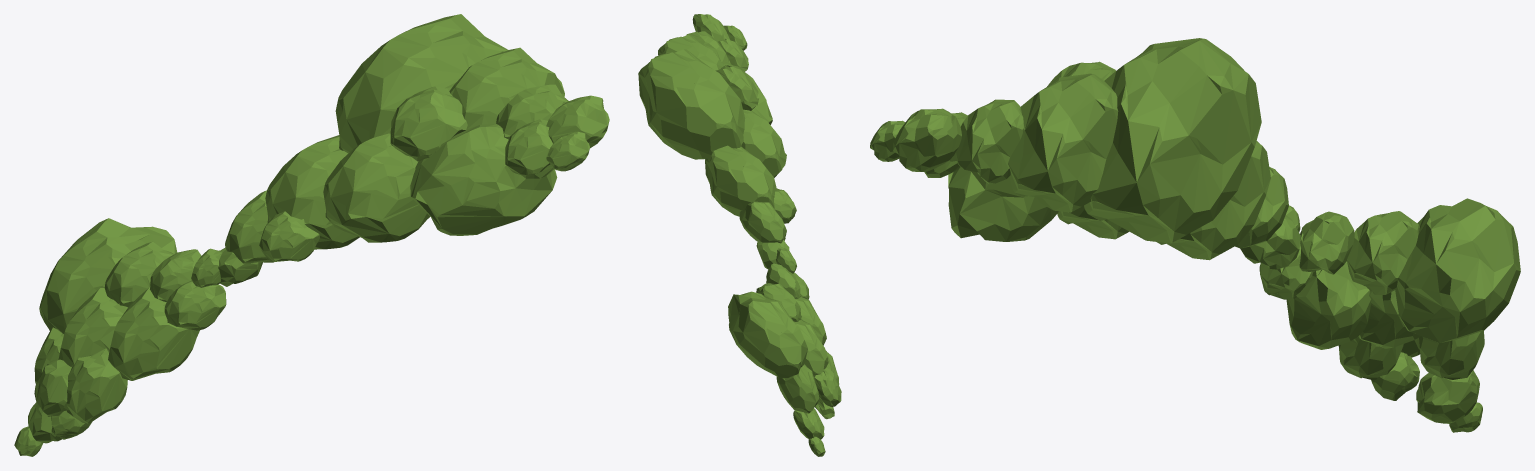
The model's file is moss1.fbx.
3 views of the same model, side by side, from view 1: azimuth 30°, elevation 25°; view 2: azimuth 150°, elevation 25°; view 3: azimuth 270°, elevation 25° (orthographic). The views are drawn at different scales.
Parts seen in each view (by area): view 1: Moss_G5, Group63459.175, Group63459.174, Group63459.182, Group63459.189, Group63459.173, Group63459.172, Group63459.177, Group63459.192, Group63459.190, Group63459.183, Group63459.188 (+13 smaller); view 2: Moss_G5, Group63459.182, Group63459.173, Group63459.174, Group63459.178, Group63459.191, Group63459.172, Group63459.177, Group63459.190, Group63459.183, Group63459.193, Group63459.184 (+12 smaller); view 3: Moss_G5, Group63459.182, Group63459.172, Group63459.175, Group63459.189, Group63459.183, Group63459.173, Group63459.176, Group63459.180, Group63459.184, Group63459.194, Group63459.191 (+9 smaller).
Part boxes in pixels (bbox=[...]): Moss_G5: bbox=[335, 14, 508, 153]; Group63459.175: bbox=[410, 123, 557, 235]; Group63459.174: bbox=[323, 133, 430, 242]; Group63459.182: bbox=[39, 218, 177, 333]; Group63459.189: bbox=[108, 287, 199, 380]; Group63459.173: bbox=[265, 135, 359, 249]; Group63459.172: bbox=[449, 47, 564, 129]; Group63459.177: bbox=[390, 86, 467, 161]; Group63459.192: bbox=[66, 348, 127, 423]; Group63459.190: bbox=[58, 288, 127, 367]; Group63459.183: bbox=[104, 241, 174, 307]; Group63459.188: bbox=[164, 280, 226, 330]; Moss_G5: bbox=[638, 49, 745, 159]; Group63459.182: bbox=[728, 291, 807, 378]; Group63459.173: bbox=[705, 145, 776, 216]; Group63459.174: bbox=[741, 109, 786, 177]; Group63459.178: bbox=[739, 201, 786, 243]; Group63459.191: bbox=[776, 364, 818, 413]; Group63459.172: bbox=[658, 34, 724, 83]; Group63459.177: bbox=[715, 65, 758, 110]; Group63459.190: bbox=[794, 319, 828, 375]; Group63459.183: bbox=[756, 283, 801, 321]; Group63459.193: bbox=[813, 368, 841, 406]; Group63459.184: bbox=[766, 263, 800, 298]; Moss_G5: bbox=[1084, 38, 1261, 243]; Group63459.182: bbox=[1395, 198, 1520, 342]; Group63459.172: bbox=[1008, 73, 1118, 212]; Group63459.175: bbox=[948, 167, 1058, 241]; Group63459.189: bbox=[1286, 261, 1371, 349]; Group63459.183: bbox=[1347, 211, 1419, 294]; Group63459.173: bbox=[1157, 141, 1270, 260]; Group63459.176: bbox=[955, 99, 1023, 184]; Group63459.180: bbox=[893, 108, 961, 171]; Group63459.184: bbox=[1299, 211, 1354, 274]; Group63459.194: bbox=[1416, 370, 1479, 423]; Group63459.191: bbox=[1419, 330, 1484, 379].
Bounding box in the file's own units: 2020 × 2131 × 2109.
